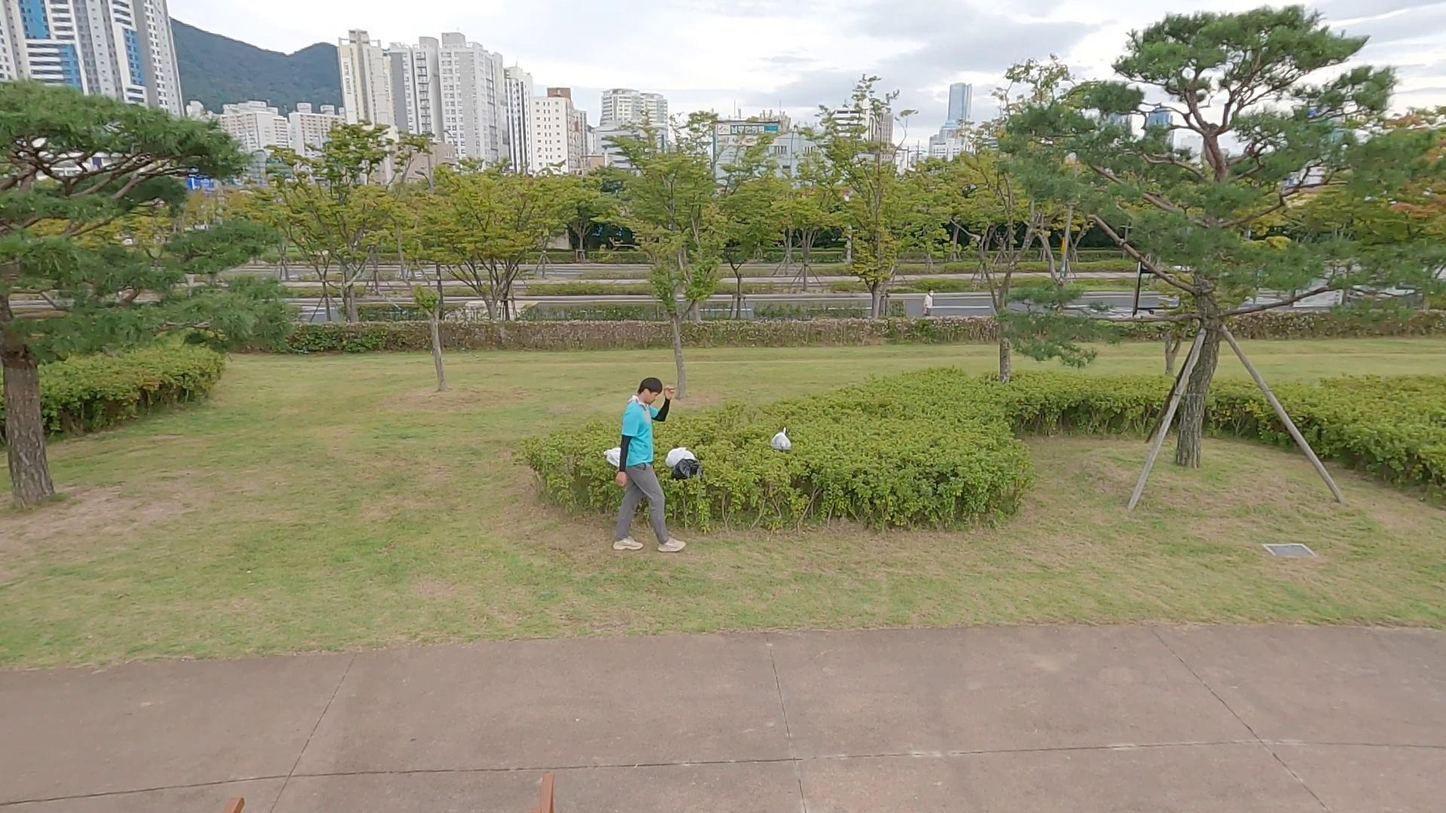person: (610, 376, 686, 556)
trash: (665, 440, 699, 472), (597, 440, 630, 470), (670, 457, 701, 485), (770, 429, 794, 449)
